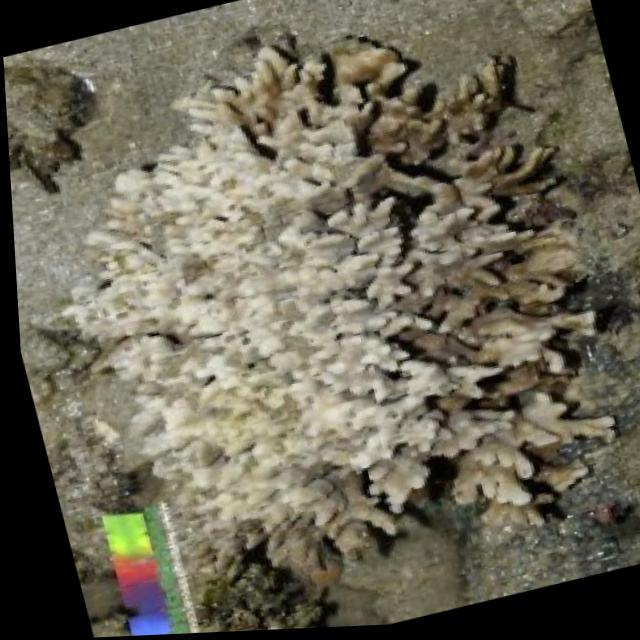Bleached Coral: (20, 14, 481, 589)
